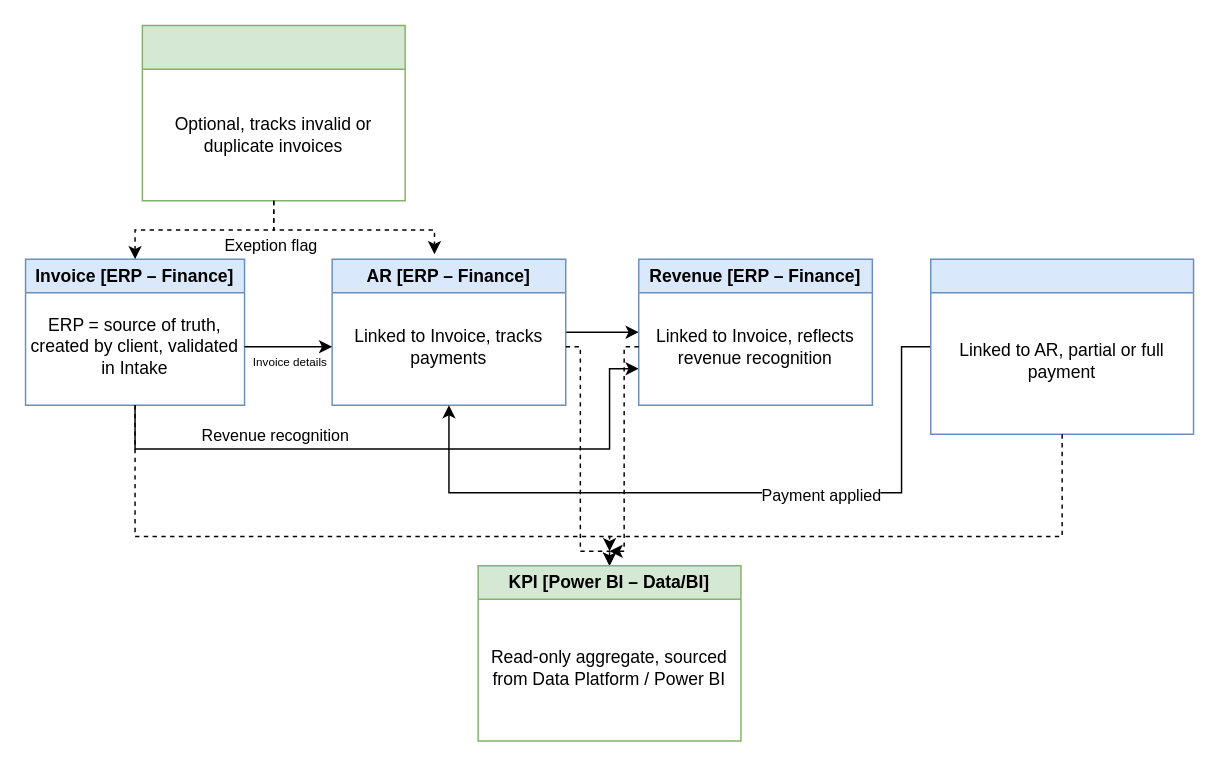
The diagram is 1219 pixels wide and 767 high, and some of its shapes have lost their labels. The box of each missing label's shape, as (x1, y1, x2, y2) in pixels:
Exception [Intake / Power BI – BSA/Finance]: (141, 24, 405, 201)
Payment [ERP – Finance]: (929, 258, 1194, 434)
